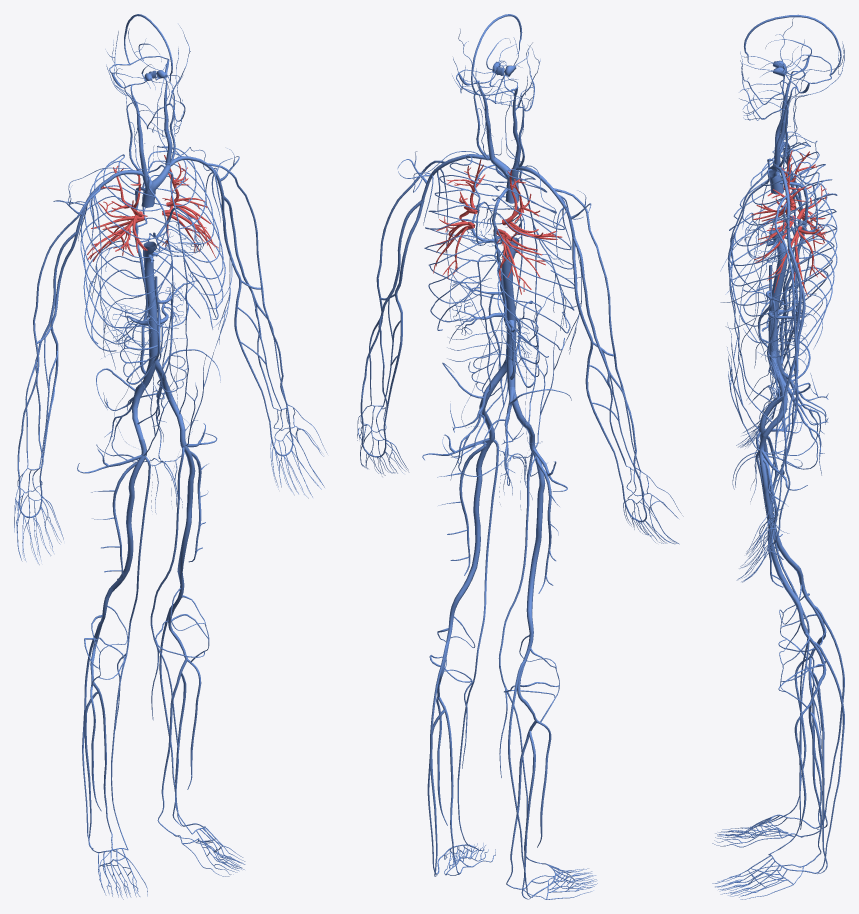
The model's file is Venous_system.glb.
3 views of the same model, side by side, from view 1: azimuth 30°, elevation 25°; view 2: azimuth 150°, elevation 25°; view 3: azimuth 270°, elevation 25° (orthographic). The views are drawn at different scales.
Parts seen in each view (by area): view 1: Right superior intercostal vein, Left superior intercostal vein, Great saphenous vein.l, Great saphenous vein.r, Femoral vein.r, Femoral vein.l, Cephalic vein.r, Cephalic vein.l, Basilic vein.r, Basilic vein.l; view 2: Right superior intercostal vein, Left superior intercostal vein, Great saphenous vein.l, Great saphenous vein.r, Femoral vein.l, Femoral vein.r, Cephalic vein.r, Basilic vein.r, Cephalic vein.l, Basilic vein.l; view 3: Left superior intercostal vein, Right superior intercostal vein, Femoral vein.l, Cephalic vein.l, Great saphenous vein.l, Great saphenous vein.r, Small saphenous vein.l, Small saphenous vein.r, Inferior vena cava (abdominal part), Basilic vein.l, Femoral vein.r, Palmar digital veins.l (+22 smaller).
Boxes of the visible parts, x1,y1,x2,y2 form: Right superior intercostal vein: (80,154,171,351); Left superior intercostal vein: (144,146,225,329); Great saphenous vein.l: (150,447,192,834); Great saphenous vein.r: (111,456,150,849); Femoral vein.r: (111,439,146,589); Femoral vein.l: (177,429,195,573); Cephalic vein.r: (17,186,100,489); Cephalic vein.l: (202,161,290,423); Basilic vein.r: (40,232,78,476); Basilic vein.l: (221,197,270,421); Right superior intercostal vein: (492,169,574,357); Left superior intercostal vein: (424,155,518,330); Great saphenous vein.l: (457,439,499,847); Great saphenous vein.r: (498,452,541,863); Femoral vein.l: (458,423,494,596); Femoral vein.r: (526,434,545,611); Cephalic vein.r: (553,188,643,497); Basilic vein.r: (572,238,622,484); Cephalic vein.l: (360,160,444,429); Basilic vein.l: (383,201,424,426); Left superior intercostal vein: (729,161,837,357); Right superior intercostal vein: (729,142,837,305); Femoral vein.l: (759,435,797,600); Cephalic vein.l: (774,195,797,519); Great saphenous vein.l: (756,451,821,854); Great saphenous vein.r: (756,432,821,823); Small saphenous vein.l: (804,641,844,873); Small saphenous vein.r: (803,605,844,828); Inferior vena cava (abdominal part): (768,277,784,350); Basilic vein.l: (779,248,805,501); Femoral vein.r: (759,414,797,568); Palmar digital veins.l: (736,519,774,582).
Bounding box in the file's own units: 0.6628 × 1.7 × 0.24.
